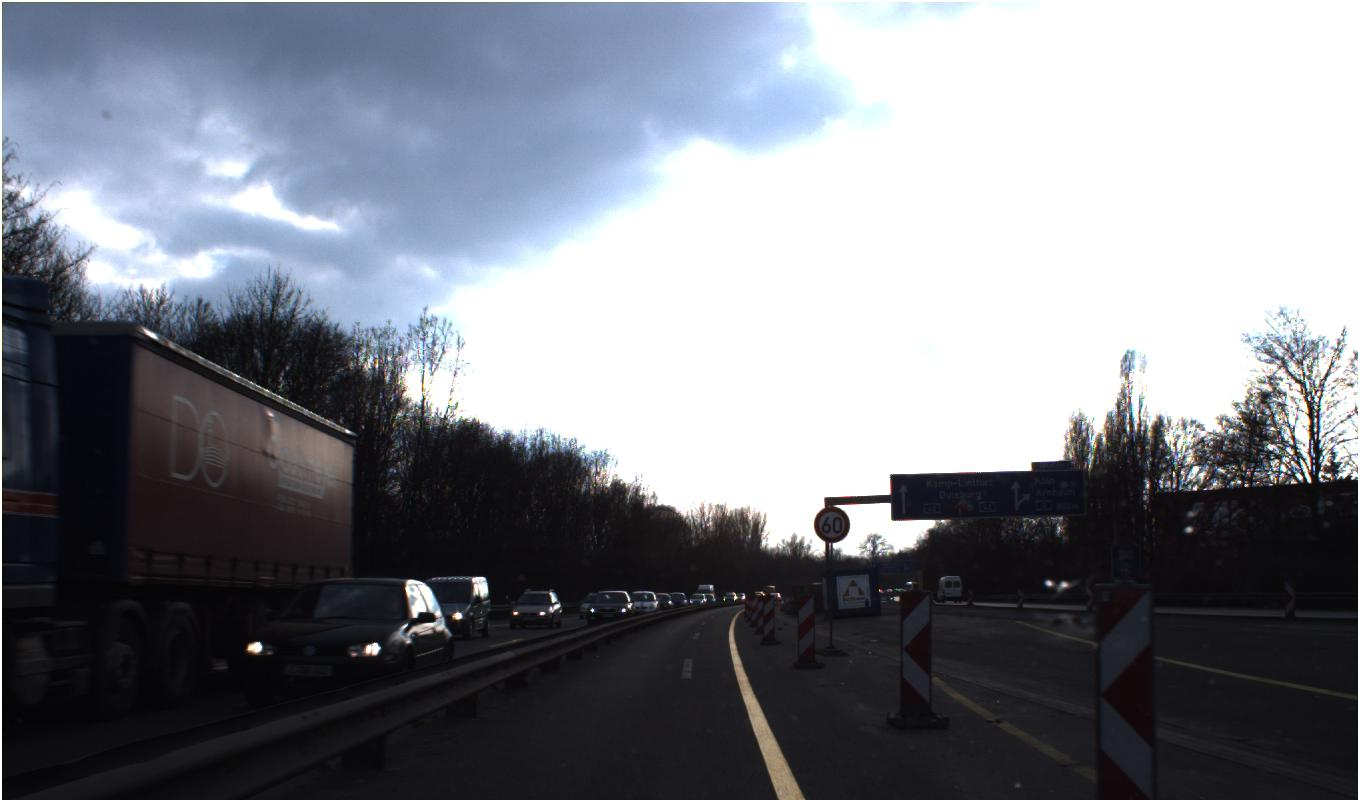prohibitory: (813, 505, 851, 543)
